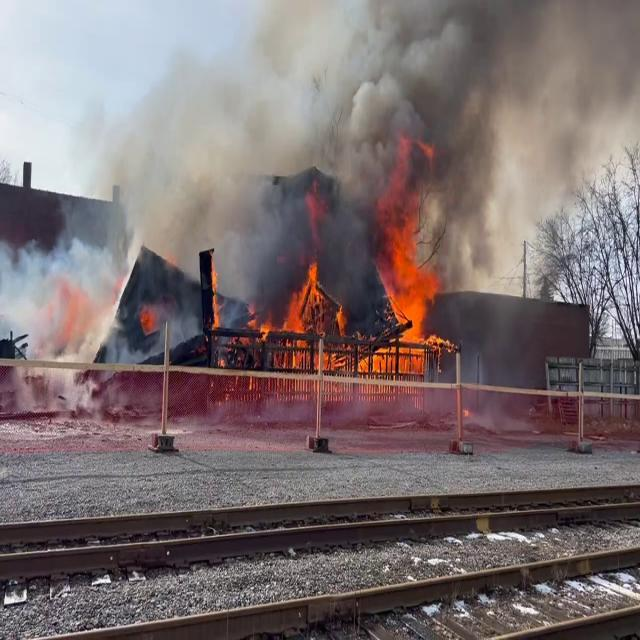Fire: (372, 178, 448, 368), (277, 258, 344, 380)
Smoke: (20, 0, 616, 322)
